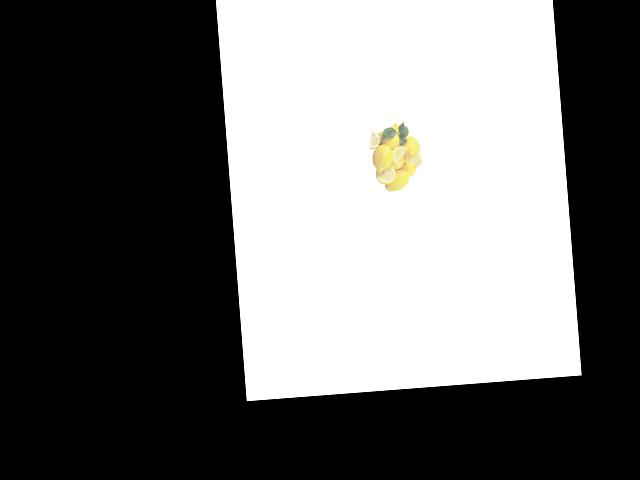lemon: (377, 128, 400, 153)
